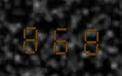eight: (18, 18, 45, 55), (75, 20, 102, 57)
six: (47, 19, 74, 56)
